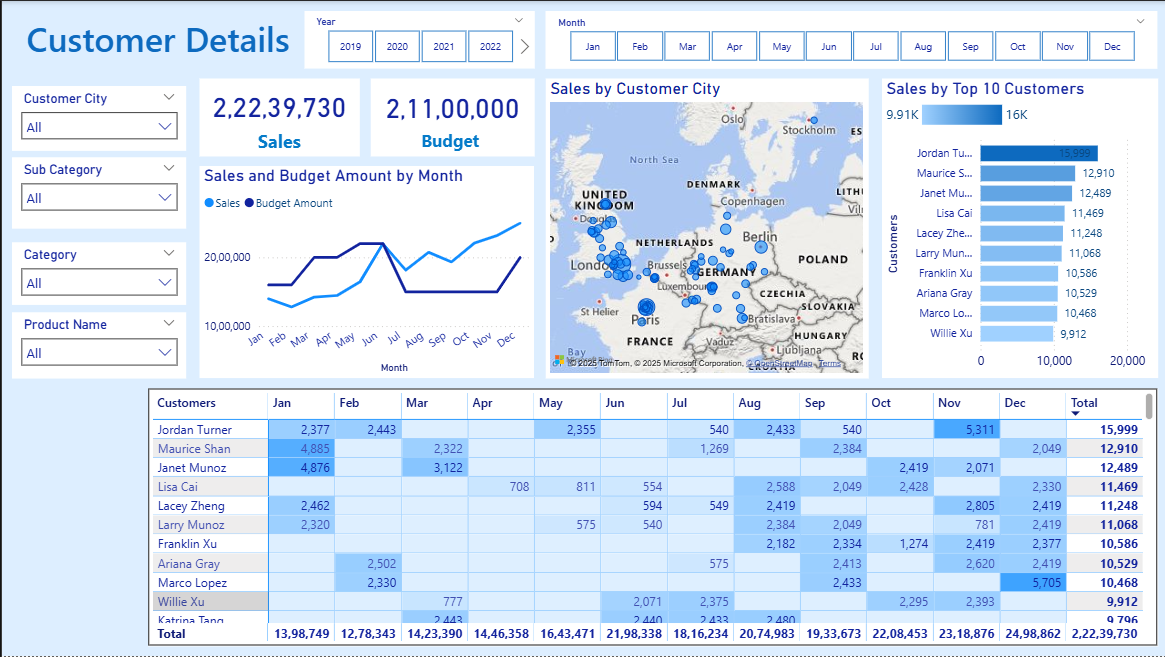

This screenshot's page, from the dashboard's own definition file:
{"tool":"powerbi","page":{"name":"Customer Details","canvas":[1280,720],"ordinal":1},"visuals":[{"type":"textbox","box":[21.4,11.4,311.4,65.7],"z":0},{"type":"slicer","fields":{"Values":["DIM_Product.Product Name"]},"box":[11.4,341.4,191.4,72.9],"z":1000},{"type":"slicer","fields":{"Values":["DIM_Product.Product Category"]},"box":[11.4,264.3,191.4,68.6],"z":2000},{"type":"slicer","fields":{"Values":["DIM_Customer.Customer City"]},"box":[11.4,92.9,191.4,71.4],"z":3000},{"type":"slicer","fields":{"Values":["DIM_Product.Sub Category"]},"box":[11.4,171.4,191.4,78.6],"z":4000},{"type":"slicer","fields":{"Values":["DIM_Calender.Year"]},"box":[331.4,11.4,252.9,62.9],"z":5000},{"type":"slicer","fields":{"Values":["DIM_Calender.Monthshort"]},"box":[597.1,11.4,671.4,62.9],"z":6000},{"type":"lineChart","title":"Sales and Budget Amount by Month","fields":{"Y":["Key Measures.Sales","Key Measures.Budget Amount"],"Category":["DIM_Calender.Monthshort"]},"box":[217.1,181.4,367.1,232.9],"z":7000},{"type":"clusteredBarChart","title":"Sales by Top 10 Customers","fields":{"Category":["DIM_Customer.Full Name"],"Y":["Key Measures.Sales"]},"box":[965.7,85.7,302.9,328.6],"z":8000},{"type":"map","fields":{"Category":["DIM_Customer.Customer City"],"Size":["Key Measures.Sales"]},"box":[597.1,85.7,354.3,328.6],"z":9000},{"type":"card","fields":{"Values":["Key Measures.Sales"]},"box":[217.1,85.7,175.7,85.7],"z":10000},{"type":"card","fields":{"Values":["Key Measures.Budget Amount"]},"box":[404.3,85.7,180,85.7],"z":11000},{"type":"pivotTable","fields":{"Rows":["DIM_Customer.Full Name"],"Columns":["DIM_Calender.Monthshort"],"Values":["Key Measures.Sales"]},"box":[160,425.7,1108.6,282.9],"z":12000}]}

Visuals, with their boxes in screenshot pixels (x1, y1, x2, y2), scaled from the page's 1280x720 canvas onto the 1165x657 screenshot:
textbox: <region>19, 10, 303, 70</region>
slicer - DIM_Product.Product Name: <region>10, 312, 185, 378</region>
slicer - DIM_Product.Product Category: <region>10, 241, 185, 304</region>
slicer - DIM_Customer.Customer City: <region>10, 85, 185, 150</region>
slicer - DIM_Product.Sub Category: <region>10, 156, 185, 228</region>
slicer - DIM_Calender.Year: <region>302, 10, 532, 68</region>
slicer - DIM_Calender.Monthshort: <region>543, 10, 1155, 68</region>
"Sales and Budget Amount by Month" lineChart: <region>198, 166, 532, 378</region>
"Sales by Top 10 Customers" clusteredBarChart: <region>879, 78, 1155, 378</region>
map - DIM_Customer.Customer City x Key Measures.Sales: <region>543, 78, 866, 378</region>
card - Key Measures.Sales: <region>198, 78, 358, 156</region>
card - Key Measures.Budget Amount: <region>368, 78, 532, 156</region>
pivotTable - DIM_Customer.Full Name x DIM_Calender.Monthshort: <region>146, 388, 1155, 647</region>
